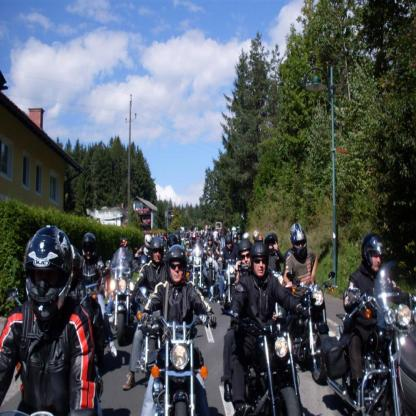Helmet: (26, 218, 74, 334), (249, 234, 269, 284), (169, 242, 191, 287), (362, 232, 386, 272), (290, 220, 308, 258), (79, 232, 99, 262), (237, 237, 251, 270), (148, 239, 163, 263), (166, 232, 180, 244), (224, 236, 234, 249)
